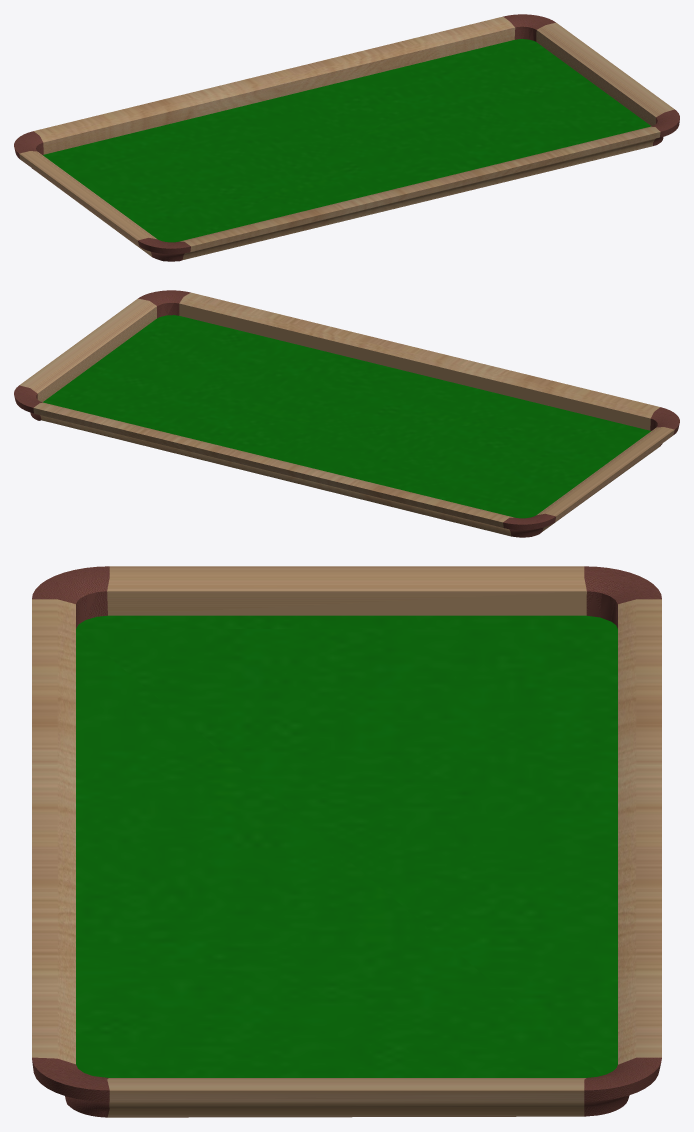
File: table.obj
3 renders of one model, top to bottom at view 1: azimuth 30°, elevation 25°; view 2: azimuth 150°, elevation 25°; view 3: azimuth 270°, elevation 25°, orthographic. The views are drawn at different scales.
Visible parts, largest first — view 1: face, table, corner; view 2: face, table, corner; view 3: face, table, corner.
Part boxes in pixels (left/top/right/bottom): face: left=43, top=39, right=650, bottom=242; table: left=19, top=16, right=674, bottom=259; corner: left=14, top=14, right=679, bottom=261; face: left=43, top=315, right=650, bottom=518; table: left=19, top=292, right=674, bottom=536; corner: left=14, top=290, right=679, bottom=537; face: left=76, top=615, right=617, bottom=1077; table: left=32, top=566, right=661, bottom=1117; corner: left=32, top=566, right=661, bottom=1117.
Bounding box in the file's own units: 1.83 × 0.0682 × 0.93.
3 materials, 3 textured.
